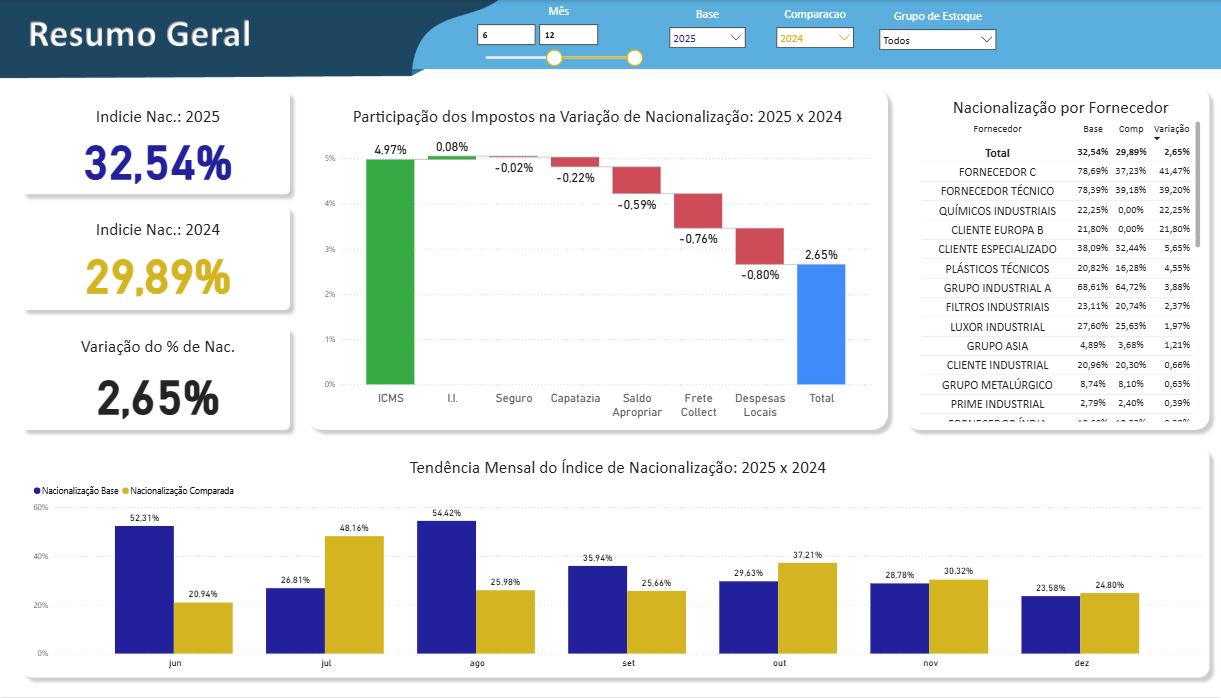

Layout of this report page (visuals, bound fields, positions):
{"tool":"powerbi","page":{"name":"Resumo Geral","canvas":[1900,1080],"ordinal":0},"visuals":[{"type":"waterfallChart","fields":{"Category":["Categorias.Driver"],"Y":["Categorias.Valor Efeito Cascata"]},"box":[500,165,857.5,492.5],"z":0},{"type":"clusteredColumnChart","fields":{"Category":["Calendario.Mes"],"Y":["Medidas.Base % Nacionalização","Medidas.Comparacao % Nacionalização"]},"box":[50,707.5,1822.5,335],"z":1000},{"type":"pivotTable","title":"Nacionalização por Fornecedor","fields":{"Rows":["DADOS IMPORTAÇÃO.DESCRIÇÃO ABREVIADA"],"Values":["Medidas.Comparacao % Nacionalização","Medidas.Base % Nacionalização","Medidas.Variação % Nacionalização"]},"box":[1425,150,442.5,507.5],"z":2000},{"type":"card","title":"Variação do % de Nac.","fields":{"Values":["Medidas.Variação % Nacionalização"]},"box":[55,520,387.5,137.5],"z":3000},{"type":"card","fields":{"Values":["Medidas.Base % Nacionalização"]},"box":[55,165,387.5,127.5],"z":4000},{"type":"card","fields":{"Values":["Medidas.Comparacao % Nacionalização"]},"box":[55,340,387.5,125],"z":5000},{"type":"slicer","title":"Comparacao","fields":{"Values":["fAno_Base.Ano"]},"box":[1196,10,140,78.9],"z":6000},{"type":"slicer","title":"Grupo de Estoque","fields":{"Values":["DADOS IMPORTAÇÃO.GE DESCRIÇÃO","DADOS IMPORTAÇÃO.CÓD. DI"]},"box":[1356,12,201.2,76.2],"z":7000},{"type":"slicer","title":"Base","fields":{"Values":["fAno_Comparacao.Ano"]},"box":[1030,10,137.8,78.9],"z":8000},{"type":"slicer","title":"Mês","fields":{"Values":["Calendario.Mes Nº"]},"box":[730,4,278,110],"z":9000}]}

Visuals, with their boxes in screenshot pixels (x1, y1, x2, y2), scaled from the page's 1900x1080 canvas onto the 1221x698 screenshot:
waterfallChart - Categorias.Driver x Categorias.Valor Efeito Cascata: (x1=321, y1=107, x2=872, y2=425)
clusteredColumnChart - Calendario.Mes x Medidas.Base % Nacionalização: (x1=32, y1=457, x2=1203, y2=674)
"Nacionalização por Fornecedor" pivotTable: (x1=916, y1=97, x2=1200, y2=425)
"Variação do % de Nac." card: (x1=35, y1=336, x2=284, y2=425)
card - Medidas.Base % Nacionalização: (x1=35, y1=107, x2=284, y2=189)
card - Medidas.Comparacao % Nacionalização: (x1=35, y1=220, x2=284, y2=301)
"Comparacao" slicer: (x1=769, y1=6, x2=859, y2=57)
"Grupo de Estoque" slicer: (x1=871, y1=8, x2=1001, y2=57)
"Base" slicer: (x1=662, y1=6, x2=750, y2=57)
"Mês" slicer: (x1=469, y1=3, x2=648, y2=74)
